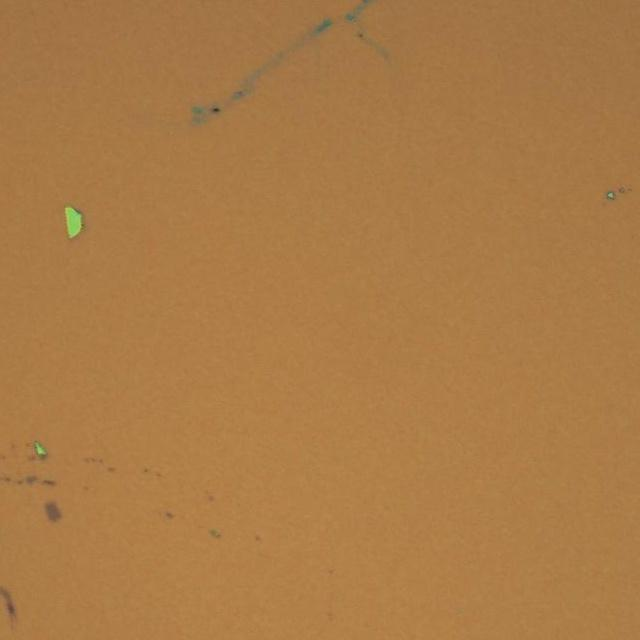monolayer-eWW4: (45, 501, 61, 522)
